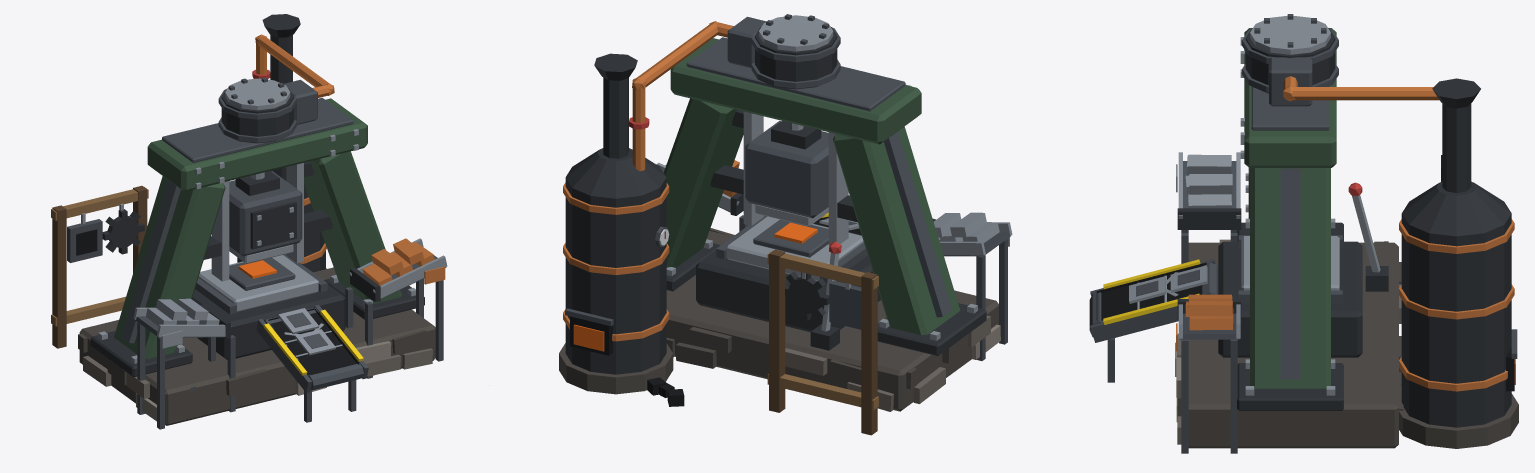
The model's file is estampeuse_t1.glb.
The picture shows the model from 3 angles, left to right: view 1: azimuth 30°, elevation 25°; view 2: azimuth 150°, elevation 25°; view 3: azimuth 270°, elevation 25°; orthographic projection. The views are drawn at different scales.
Visible parts, largest first — view 1: pieces_acier_sombre.015, massif.005, jambe_-1.003, pieces_acier.015, traverse.003, jambe_1.003, pieces_fonte.015, pieces_cuivre.007, chabotte.003, traverse_chapeau.003, marteau_masse.003, pieces_bois_sombre.005 (+20 smaller); view 2: chaudiere.005, jambe_-1.003, massif.005, traverse.003, pieces_acier_sombre.015, jambe_1.003, pieces_fonte.015, pieces_acier.015, marteau_masse.003, pieces_bois_sombre.005, chabotte.003, traverse_chapeau.003 (+24 smaller); view 3: chaudiere.005, massif.005, jambe_1.003, pieces_acier_sombre.015, pieces_fonte.015, chabotte.003, pieces_acier.015, traverse.003, chaudiere_dome.005, pieces_cuivre.007, chaudiere_socle.005, traverse_chapeau.003 (+15 smaller).
Boxes of the visible parts, box(x1,y1,x2,y2) form: pieces_acier_sombre.015: box(67, 77, 446, 429); massif.005: box(79, 267, 435, 425); jambe_-1.003: box(114, 176, 225, 358); pieces_acier.015: box(81, 129, 447, 363); traverse.003: box(147, 98, 367, 191); jambe_1.003: box(304, 151, 401, 303); pieces_fonte.015: box(90, 35, 424, 377); pieces_cuivre.007: box(255, 34, 445, 285); chabotte.003: box(192, 284, 345, 359); traverse_chapeau.003: box(162, 97, 353, 162); marteau_masse.003: box(229, 171, 302, 256); pieces_bois_sombre.005: box(52, 185, 147, 348); chaudiere.005: box(565, 178, 666, 374); jambe_-1.003: box(833, 126, 960, 335); massif.005: box(666, 230, 998, 411); traverse.003: box(670, 38, 921, 144); pieces_acier_sombre.015: box(565, 14, 1010, 360); jambe_1.003: box(663, 98, 743, 267); pieces_fonte.015: box(603, 77, 986, 355); pieces_acier.015: box(656, 84, 1012, 340); marteau_masse.003: box(745, 121, 828, 218); pieces_bois_sombre.005: box(769, 249, 877, 435); chabotte.003: box(696, 250, 880, 332); traverse_chapeau.003: box(686, 37, 905, 111); chaudiere.005: box(1401, 213, 1511, 427); massif.005: box(1188, 242, 1398, 448); jambe_1.003: box(1250, 168, 1330, 388); pieces_acier_sombre.015: box(1089, 14, 1517, 453); pieces_fonte.015: box(1177, 103, 1471, 410); chabotte.003: box(1218, 241, 1362, 357); pieces_acier.015: box(1137, 37, 1380, 395); traverse.003: box(1244, 28, 1336, 167); chaudiere_dome.005: box(1402, 181, 1511, 236); pieces_cuivre.007: box(1176, 76, 1439, 351); chaudiere_socle.005: box(1399, 393, 1518, 448); traverse_chapeau.003: box(1251, 86, 1329, 130).
Size of the model in its own units: 2 by 1.73 by 2.
